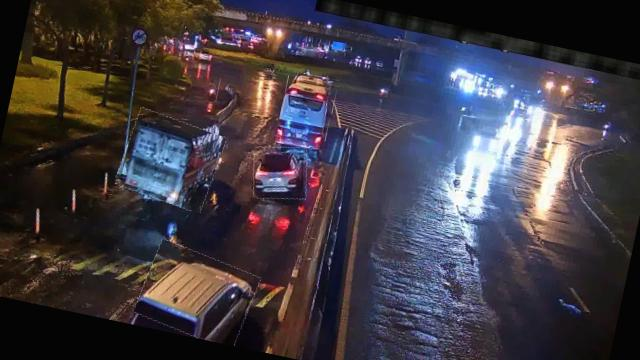Bike: (204, 75, 221, 102)
Bus: (275, 69, 338, 146)
Car: (134, 240, 260, 346), (246, 140, 312, 206)
Truck: (115, 109, 227, 212)
